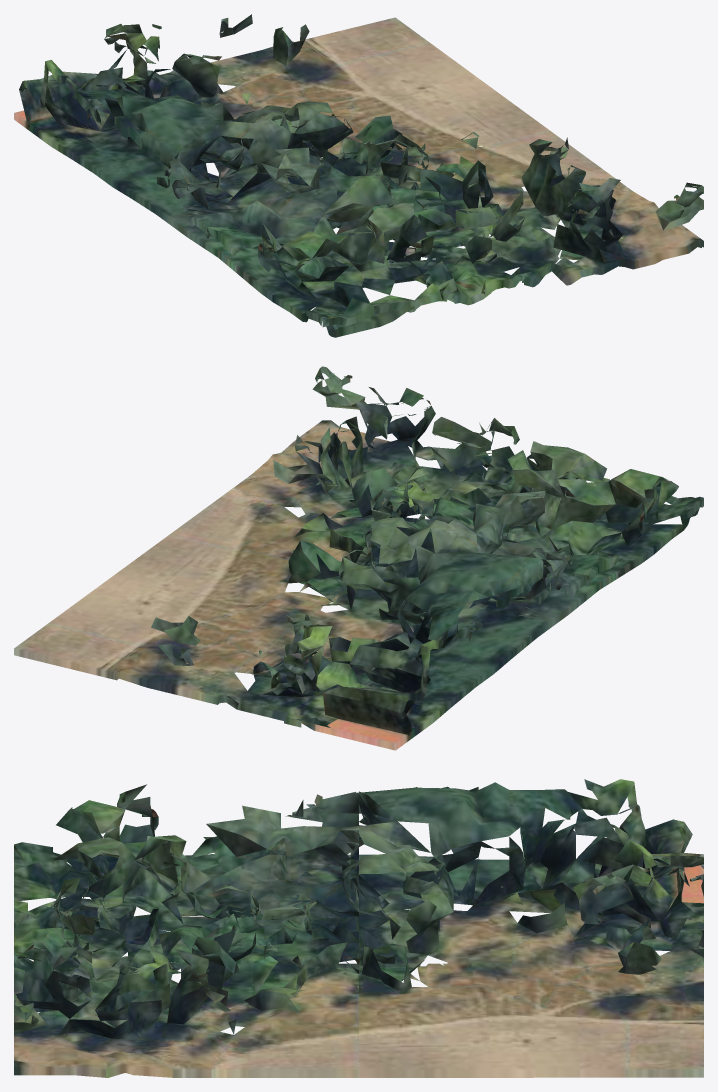
3 renders of one model, top to bottom at view 1: azimuth 30°, elevation 25°; view 2: azimuth 150°, elevation 25°; view 3: azimuth 270°, elevation 25°, orthographic. The views are drawn at different scales.
Visible parts, largest first — view 1: 3043627270437042453_0; view 2: 3043627270437042453_0; view 3: 3043627270437042453_0.
Part boxes in pixels (x1,y1,x2,y2): 3043627270437042453_0: (14, 14, 703, 337); 3043627270437042453_0: (14, 366, 703, 750); 3043627270437042453_0: (14, 779, 703, 1077).
Bounding box in the file's own units: 54.64 × 12.64 × 76.52.
1 material, 1 textured.
